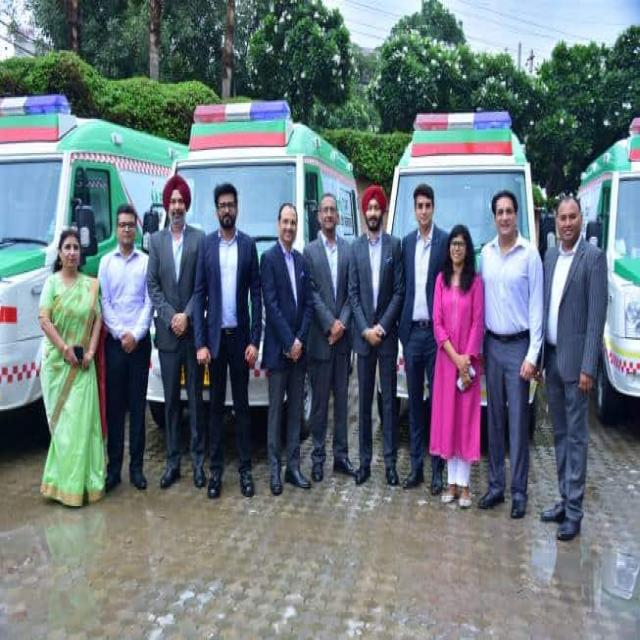emergency: (0, 94, 188, 410), (176, 101, 360, 254), (388, 114, 536, 249), (579, 118, 640, 421)
